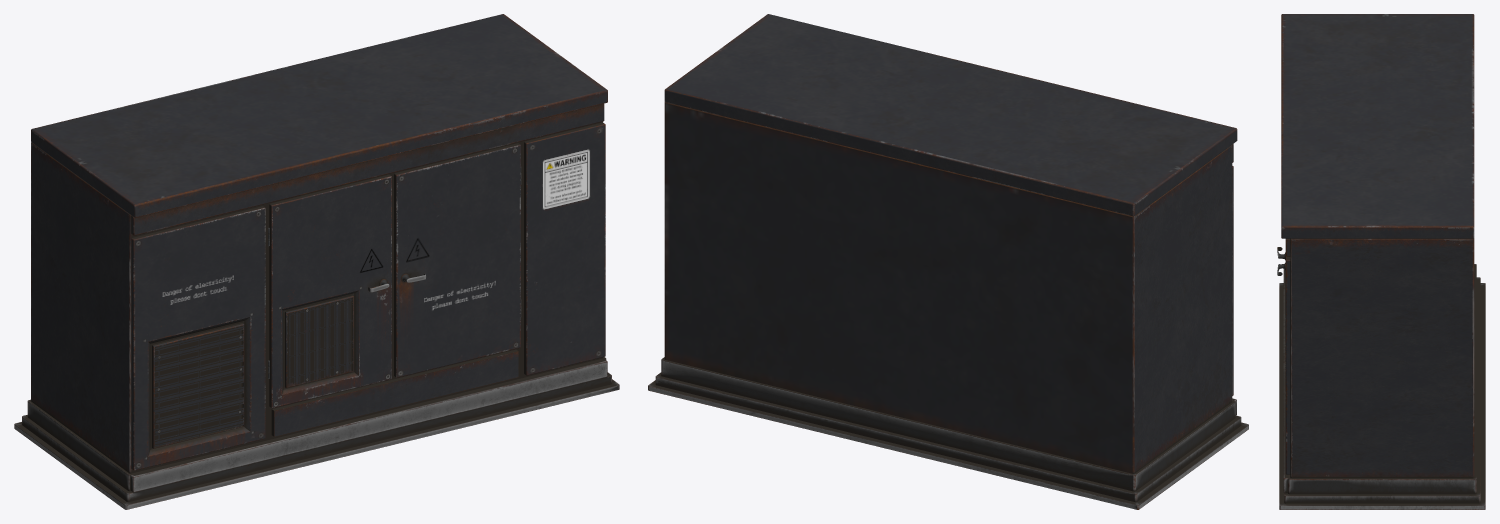
The model's file is electric_box-_10mb.glb.
3 renders of one model, left to right at view 1: azimuth 30°, elevation 25°; view 2: azimuth 150°, elevation 25°; view 3: azimuth 270°, elevation 25°, orthographic. The views are drawn at different scales.
Visible parts, largest first — view 1: Cube_2, Cube_1, Cube, Cube_5, Cube_8, Cube_6, Cube_3, Cube_4, Cube_7; view 2: Cube, Cube_1; view 3: Cube, Cube_1, Cube_2, Cube_6.
Part boxes in pixels (<box>): Cube_2: <box>269,122,605,408</box>; Cube_1: <box>31,14,607,217</box>; Cube: <box>14,121,619,509</box>; Cube_5: <box>131,206,265,470</box>; Cube_8: <box>148,317,250,456</box>; Cube_6: <box>130,359,607,492</box>; Cube_3: <box>131,103,604,235</box>; Cube_4: <box>271,349,518,436</box>; Cube_7: <box>282,290,358,394</box>; Cube: <box>648,102,1248,509</box>; Cube_1: <box>664,14,1237,216</box>; Cube: <box>1279,238,1485,509</box>; Cube_1: <box>1281,14,1474,238</box>; Cube_2: <box>1285,256,1290,474</box>; Cube_6: <box>1283,269,1287,493</box>.
Size of the model in its own units: 5.73 by 3.34 by 2.26.
Materials: 2 (2 with a texture image).
